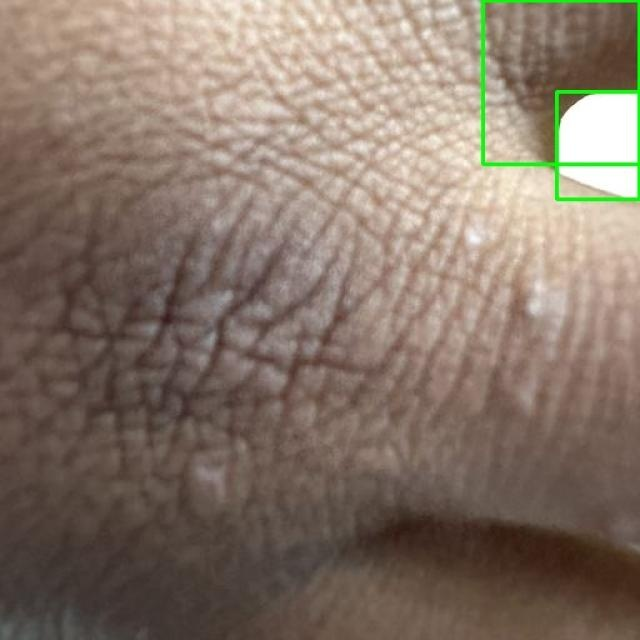Contact Dermatitis: (482, 0, 639, 164), (556, 91, 639, 199)
